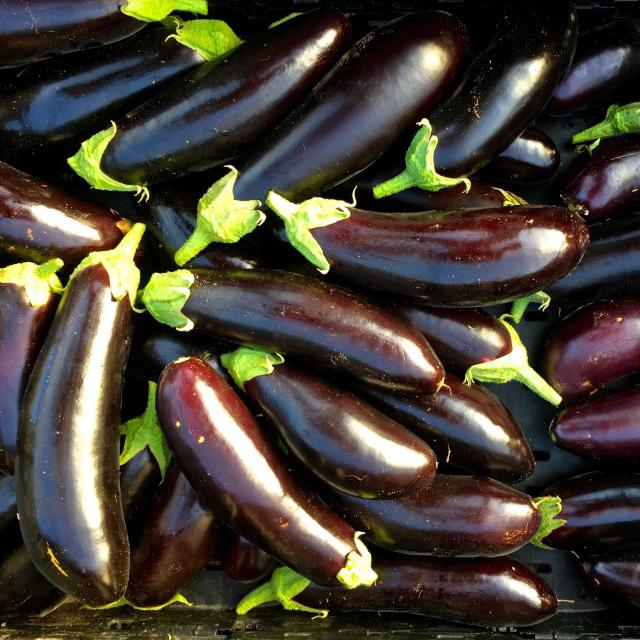Eggplant-r1Ob: (178, 11, 466, 261), (156, 358, 378, 589), (69, 10, 350, 191), (15, 222, 145, 608), (141, 269, 444, 394), (268, 191, 589, 308), (221, 348, 436, 499), (0, 28, 205, 160), (318, 475, 541, 558), (391, 302, 561, 405), (0, 259, 64, 474)
